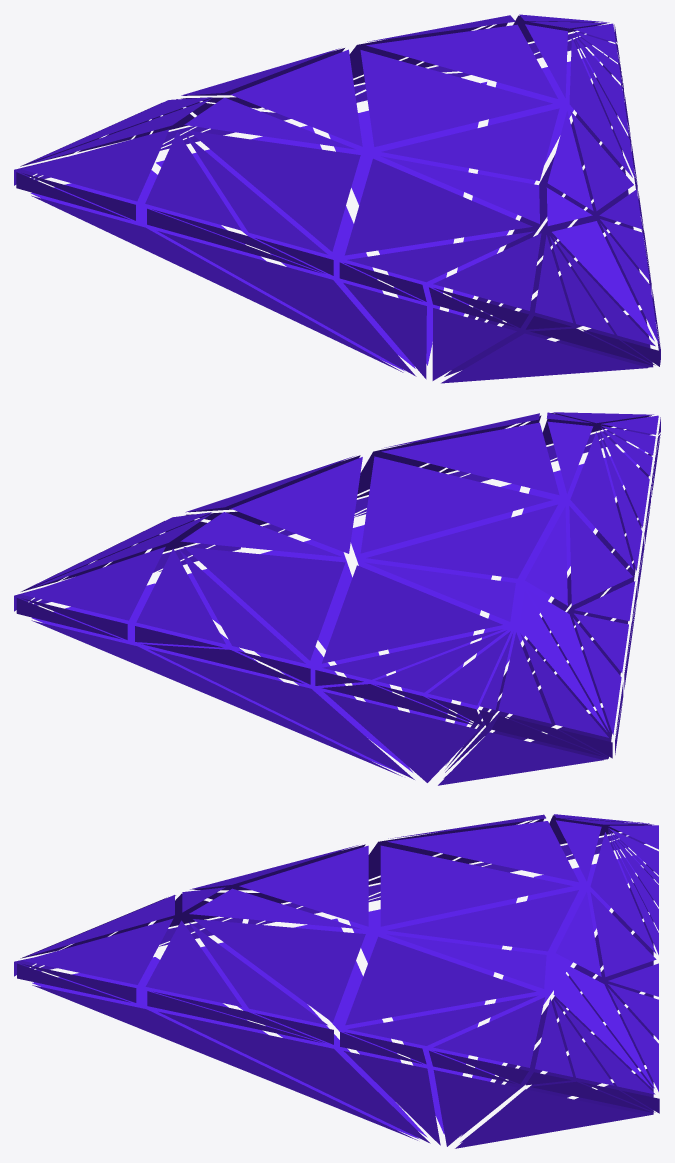
The picture shows the model from 3 angles, top to bottom: view 1: azimuth 30°, elevation 25°; view 2: azimuth 150°, elevation 25°; view 3: azimuth 270°, elevation 25°; orthographic projection. The views are drawn at different scales.
Parts seen in each view (by area): view 1: TRIANGLE; view 2: TRIANGLE; view 3: TRIANGLE.
Boxes of the visible parts, x1,y1,x2,y2 form: TRIANGLE: (14,14,660,383); TRIANGLE: (14,412,660,785); TRIANGLE: (14,814,659,1148).
Bounding box in the file's own units: 2.49 × 1.08 × 2.49.
